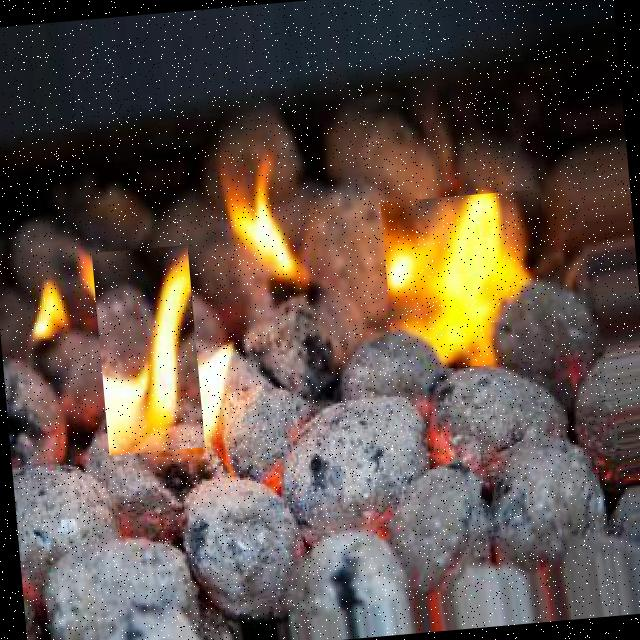fire: (380, 188, 554, 372), (92, 244, 205, 455), (219, 160, 309, 294)
